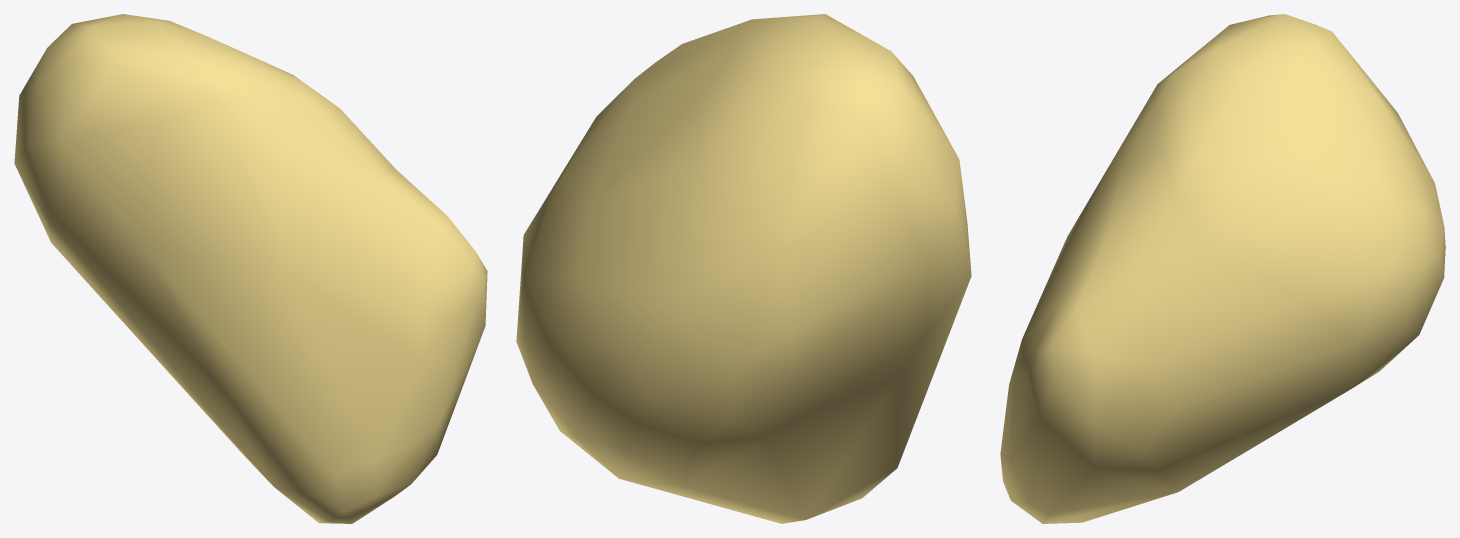
3 views of the same model, side by side, from view 1: azimuth 30°, elevation 25°; view 2: azimuth 150°, elevation 25°; view 3: azimuth 270°, elevation 25° (orthographic). The views are drawn at different scales.
Parts seen in each view (by area): view 1: ZA_12657f57981d3780; view 2: ZA_12657f57981d3780; view 3: ZA_12657f57981d3780.
Part boxes in pixels (bbox=[...]): ZA_12657f57981d3780: bbox=[14, 14, 487, 523]; ZA_12657f57981d3780: bbox=[516, 14, 971, 523]; ZA_12657f57981d3780: bbox=[1000, 14, 1445, 523].
Bounding box in the file's own units: 0.00633 × 0.00744 × 0.00686.
